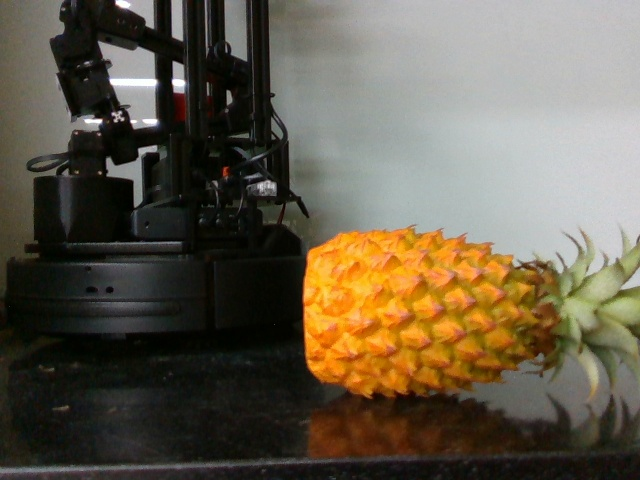pineapple: (300, 225, 640, 397)
